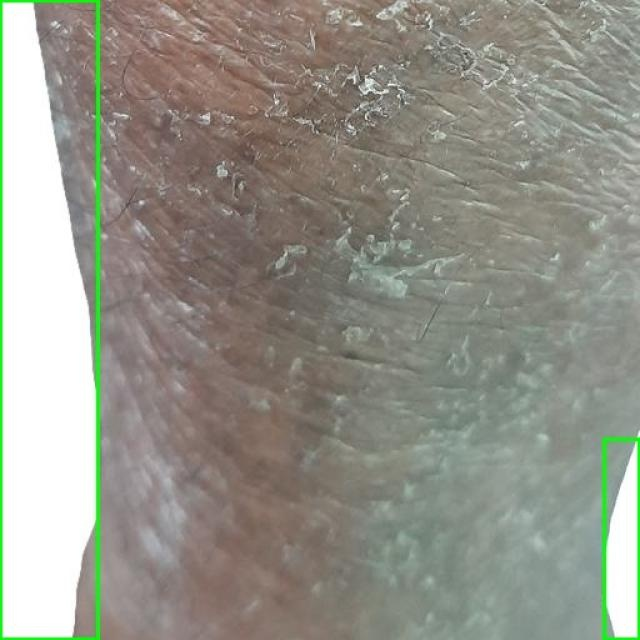Tinea Corporis: (0, 0, 98, 639), (604, 439, 639, 639)
